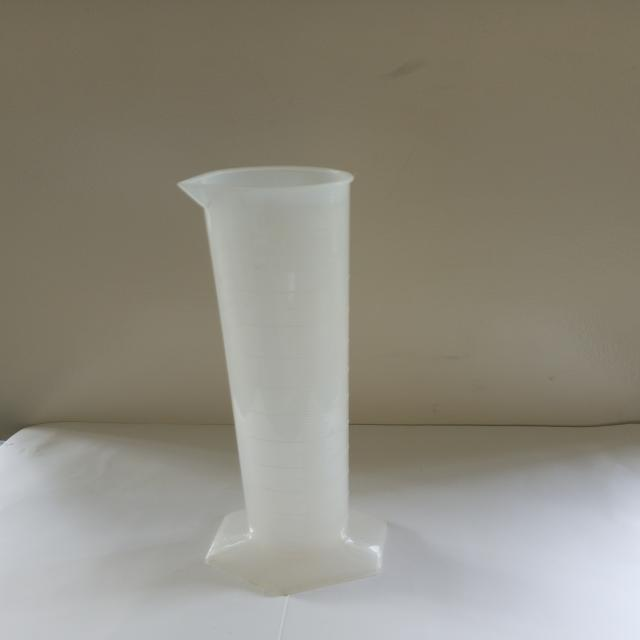graduated_cylinder: (171, 162, 394, 598)
